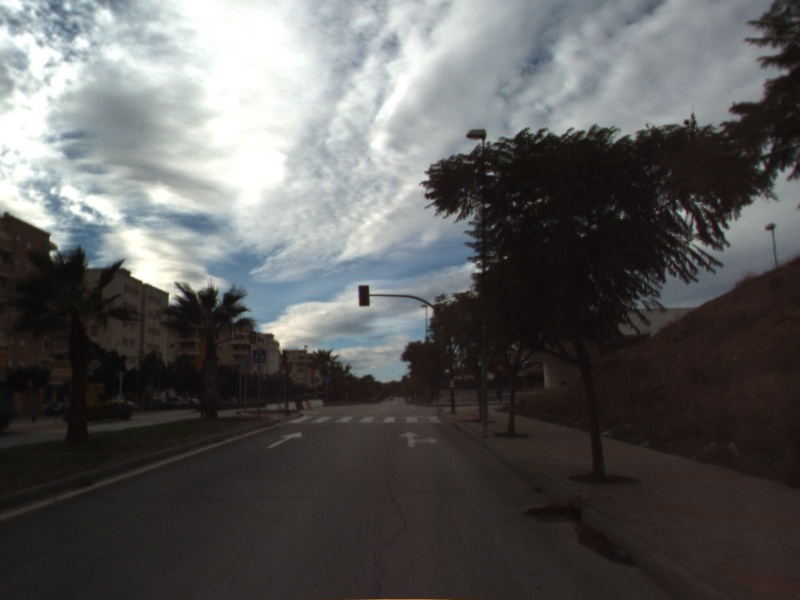STRAIGHT: (265, 430, 304, 450)
STRAIGHT_RIGHT: (396, 429, 441, 450)
